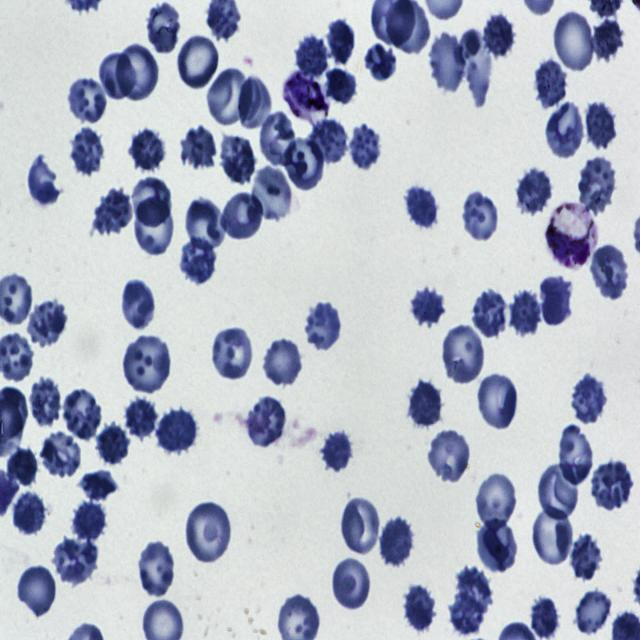red blood cell: (184, 500, 233, 567), (120, 334, 174, 394), (552, 9, 597, 74), (206, 66, 252, 129), (441, 323, 486, 387), (132, 196, 176, 260), (532, 502, 574, 568), (474, 470, 518, 532), (250, 163, 294, 225), (458, 28, 491, 109), (114, 43, 160, 101), (427, 427, 472, 486), (538, 461, 580, 524), (476, 372, 520, 431), (184, 196, 228, 255), (340, 495, 381, 557), (544, 101, 586, 161), (576, 156, 618, 215), (210, 325, 254, 381), (257, 110, 299, 168), (220, 190, 265, 243), (589, 242, 630, 300), (136, 540, 177, 598), (284, 134, 325, 192), (130, 174, 173, 229), (429, 32, 467, 94), (50, 535, 98, 584), (38, 429, 84, 480), (477, 518, 520, 572), (590, 458, 634, 510), (558, 424, 594, 487), (178, 35, 219, 90), (60, 388, 104, 439), (245, 398, 288, 450), (262, 336, 304, 389), (17, 564, 58, 618), (155, 405, 198, 456), (66, 75, 110, 124), (302, 296, 340, 352), (24, 152, 61, 209), (332, 556, 371, 610), (461, 189, 499, 244), (28, 296, 68, 347), (98, 50, 137, 102), (92, 186, 134, 234), (570, 372, 608, 425), (118, 276, 154, 331), (534, 56, 569, 112), (310, 116, 350, 165), (28, 373, 63, 429), (178, 235, 217, 285), (399, 584, 436, 636), (402, 182, 440, 232), (122, 393, 160, 443), (380, 514, 415, 568), (472, 288, 509, 339), (219, 132, 255, 184), (238, 76, 272, 131), (128, 125, 166, 174), (66, 126, 104, 175), (576, 589, 614, 636), (347, 123, 383, 172), (144, 4, 180, 53), (71, 499, 108, 546), (456, 567, 493, 614), (539, 274, 573, 325), (10, 489, 46, 537), (180, 127, 222, 168), (482, 10, 516, 60), (510, 286, 542, 339), (586, 97, 617, 151), (295, 36, 334, 78), (448, 596, 487, 637), (568, 535, 602, 582), (589, 18, 624, 63), (408, 286, 446, 326), (409, 380, 441, 427), (326, 17, 356, 67), (518, 168, 550, 214), (97, 423, 134, 462), (320, 430, 353, 472), (6, 446, 38, 488), (77, 469, 119, 500), (364, 42, 396, 82), (327, 66, 358, 106), (530, 598, 560, 638)
trophozoite: (546, 200, 598, 270), (281, 70, 331, 124)
